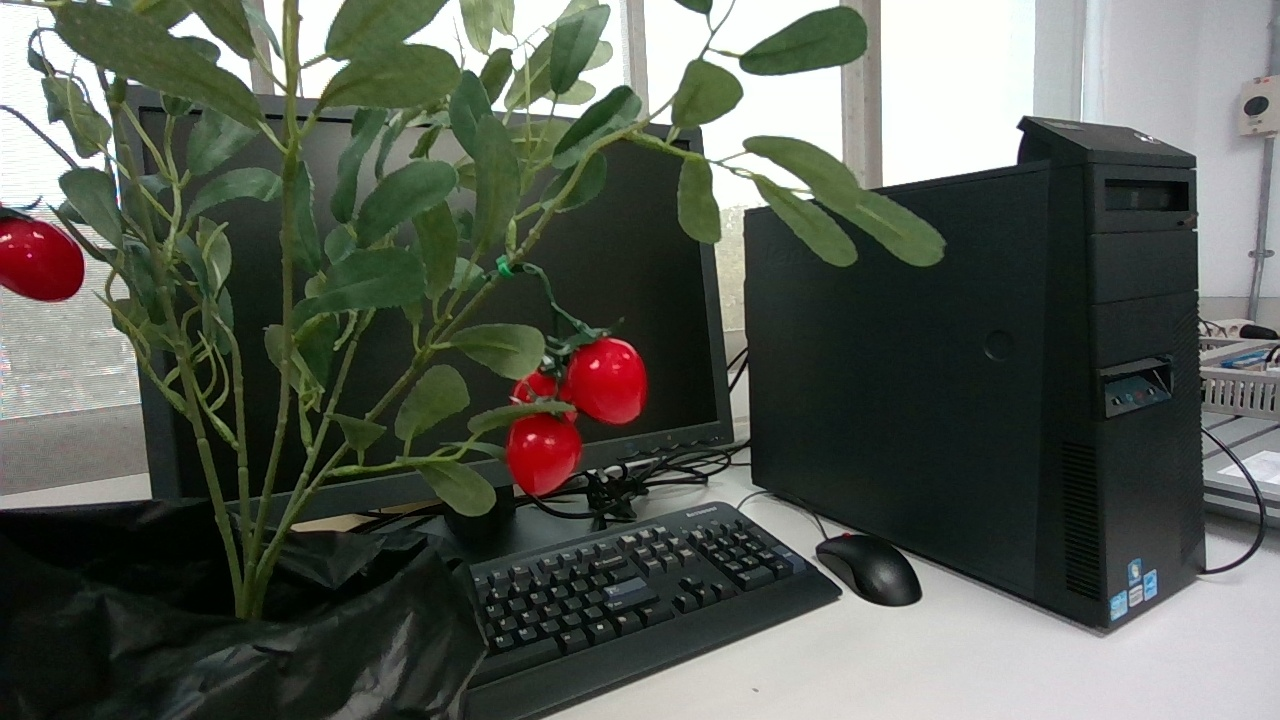peduncle: (521, 263, 555, 302)
strawberry: (562, 336, 649, 424), (0, 217, 83, 300), (506, 413, 583, 496), (511, 369, 559, 403)
